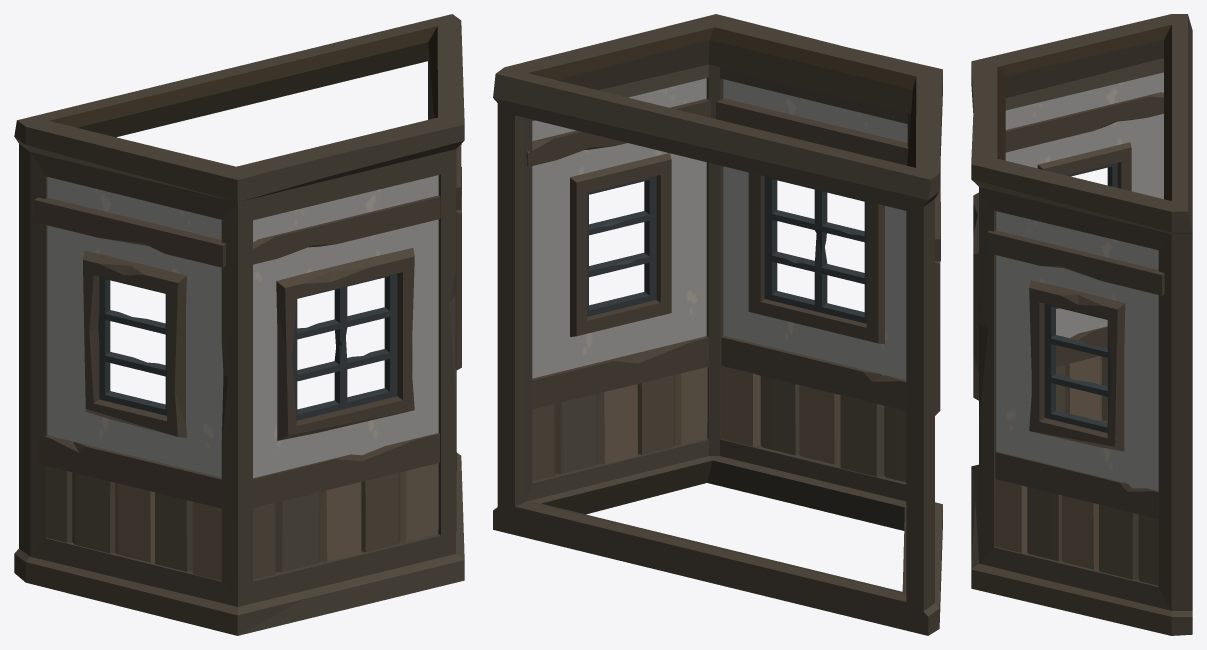
Rendered from kingdom_SM_Bld_House_Tower_Angle_Window_02.gltf.
3 views of the same model, side by side, from view 1: azimuth 30°, elevation 25°; view 2: azimuth 150°, elevation 25°; view 3: azimuth 270°, elevation 25° (orthographic). The views are drawn at different scales.
Visible parts, largest first — view 1: SM_Bld_House_Tower_Angle_Window_02; view 2: SM_Bld_House_Tower_Angle_Window_02; view 3: SM_Bld_House_Tower_Angle_Window_02.
Part boxes in pixels (x1,y1,x2,y2): SM_Bld_House_Tower_Angle_Window_02: (14, 14, 464, 635); SM_Bld_House_Tower_Angle_Window_02: (493, 14, 942, 635); SM_Bld_House_Tower_Angle_Window_02: (971, 14, 1192, 635).
Bounding box in the file's own units: 2.5 × 2.5 × 1.18.
1 material, 1 textured.
